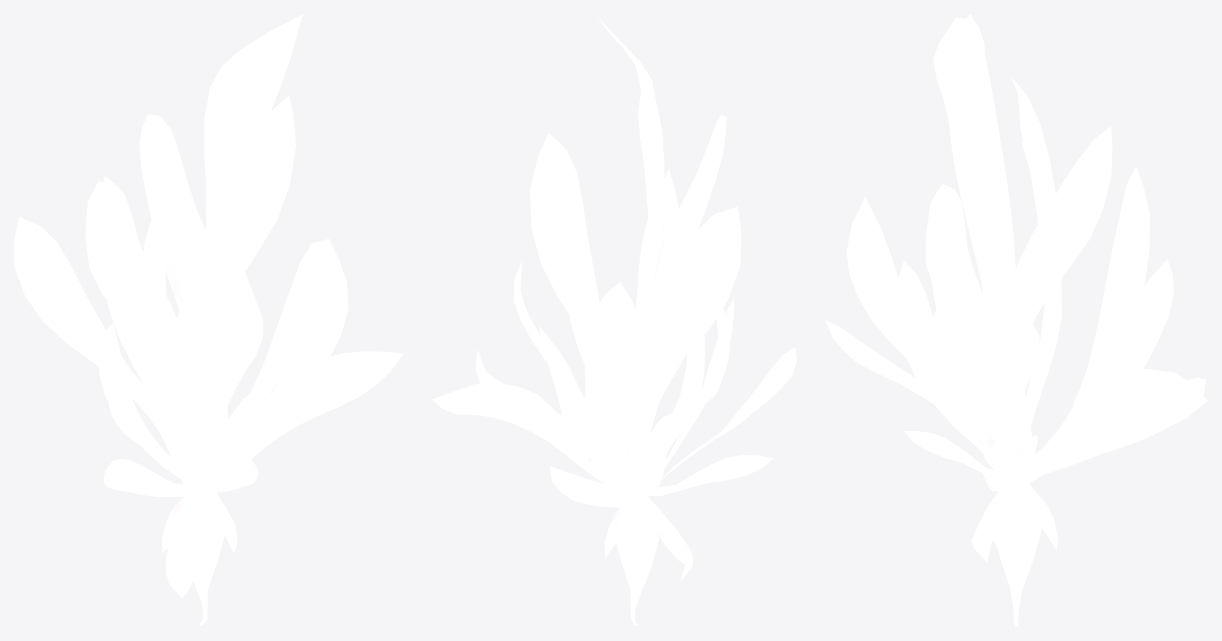
3 renders of one model, left to right at view 1: azimuth 30°, elevation 25°; view 2: azimuth 150°, elevation 25°; view 3: azimuth 270°, elevation 25°, orthographic. The views are drawn at different scales.
Parts seen in each view (by area): view 1: SM_Irit_v3_LOD0; view 2: SM_Irit_v3_LOD0; view 3: SM_Irit_v3_LOD0.
Boxes of the visible parts, x1,y1,x2,y2 form: SM_Irit_v3_LOD0: [14, 14, 403, 626]; SM_Irit_v3_LOD0: [432, 14, 796, 626]; SM_Irit_v3_LOD0: [825, 14, 1207, 626].
Size of the model in its own units: 0.4453 by 0.7986 by 0.4272.
1 material, 1 textured.
